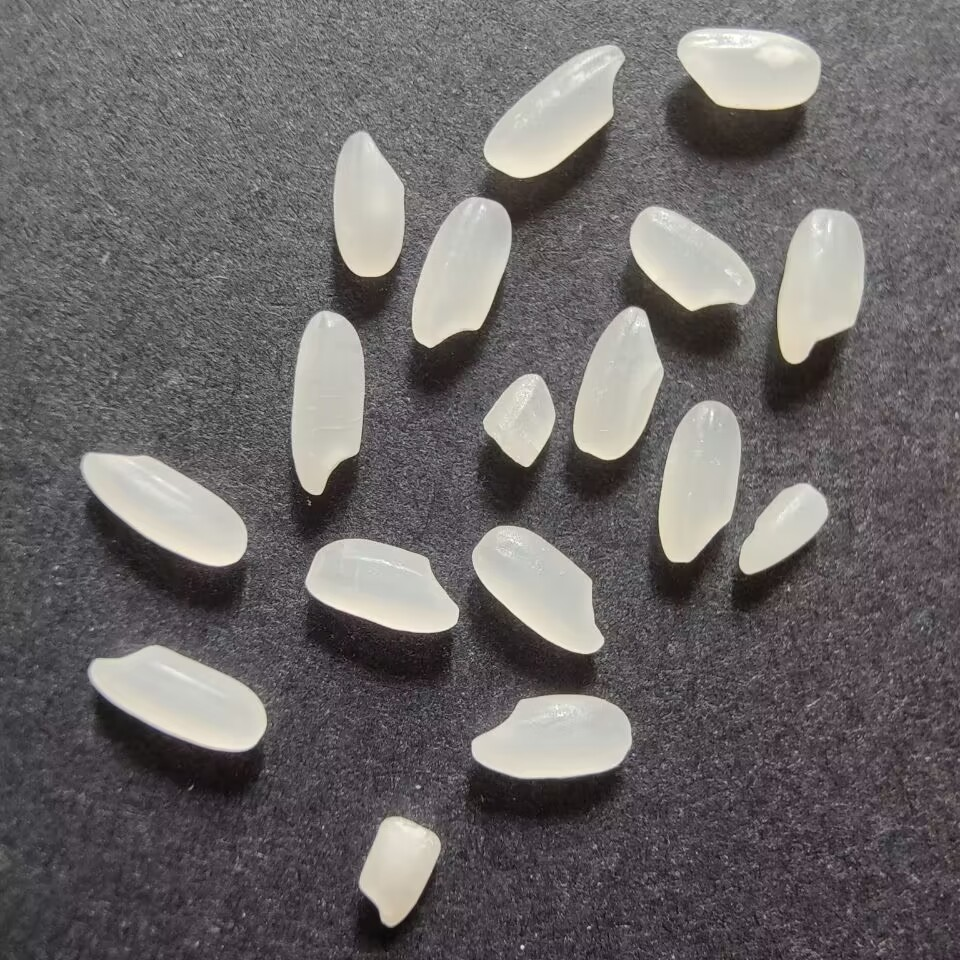broken: (352, 813, 444, 930), (734, 477, 837, 579), (476, 368, 557, 472)
rice: (70, 448, 256, 574), (80, 641, 273, 756), (478, 40, 628, 181), (469, 523, 611, 659), (408, 193, 518, 352), (298, 535, 463, 638), (287, 305, 374, 499), (566, 300, 668, 464), (465, 687, 636, 783), (773, 205, 870, 372), (652, 395, 745, 567), (627, 204, 760, 315), (669, 25, 827, 116), (327, 128, 408, 283)
